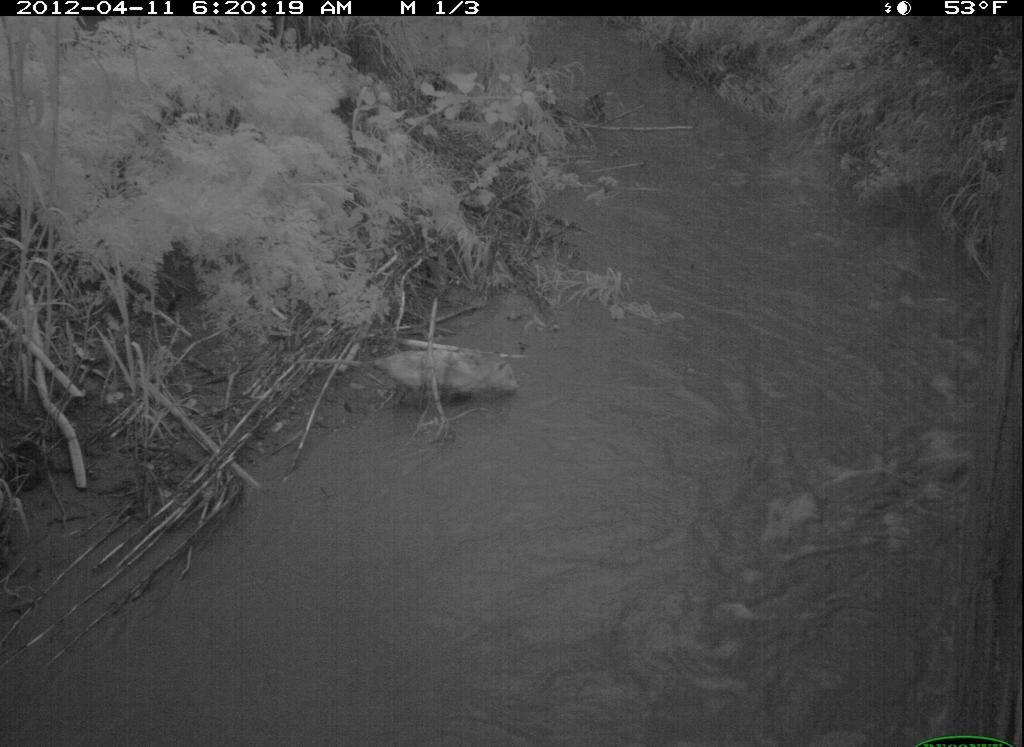opossum: (289, 341, 528, 423)
